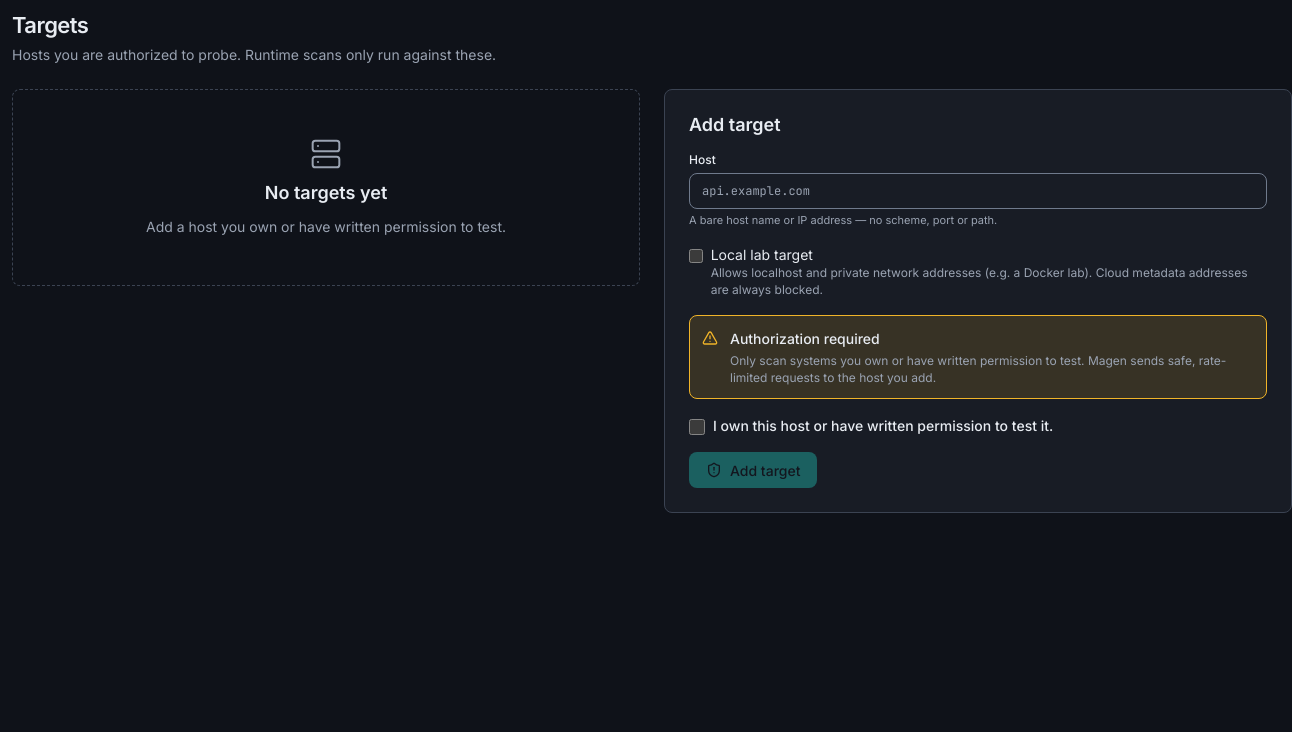
Test case: TargetsPage › shows the backend's validation message
In the field labelled "Host": (978, 191) top-left (689, 173), bottom-right (1267, 209), type "10.0.0.5"
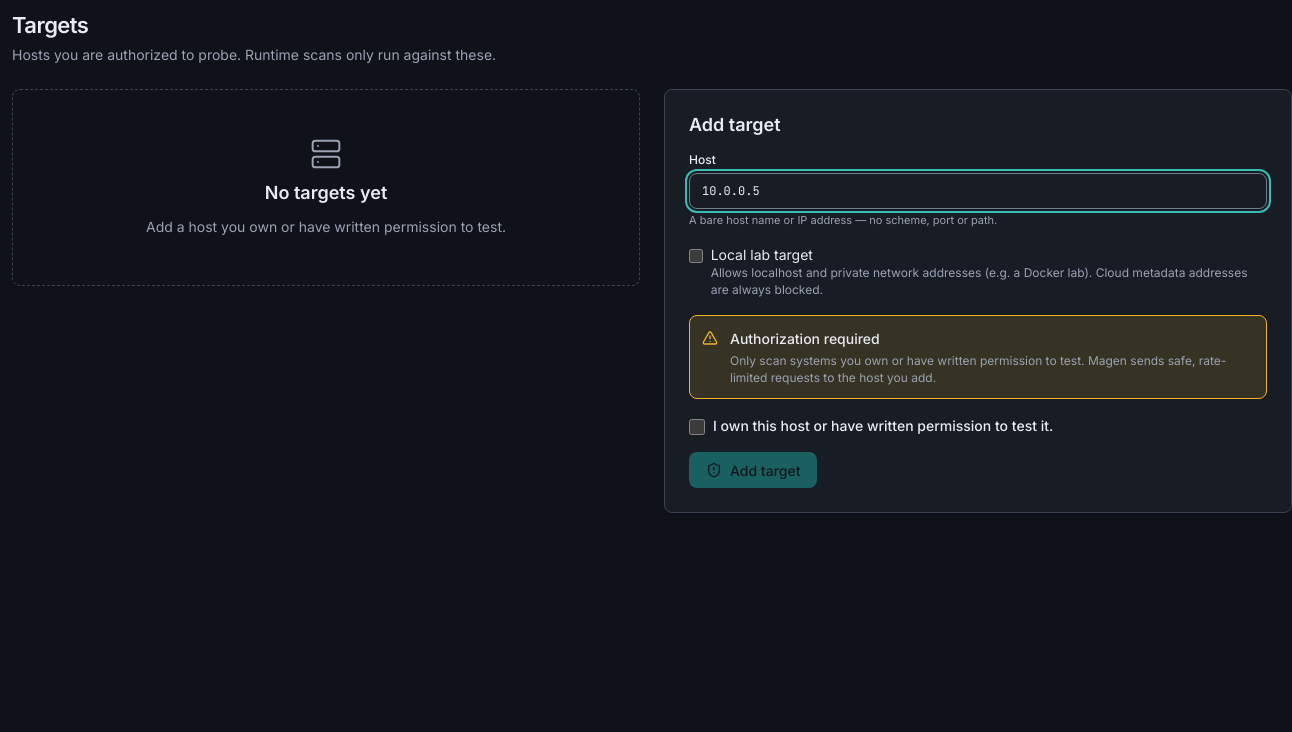
Click the checkbox labelled "I own this host or have written permission to test it.": (697, 427) top-left (689, 419), bottom-right (705, 435)
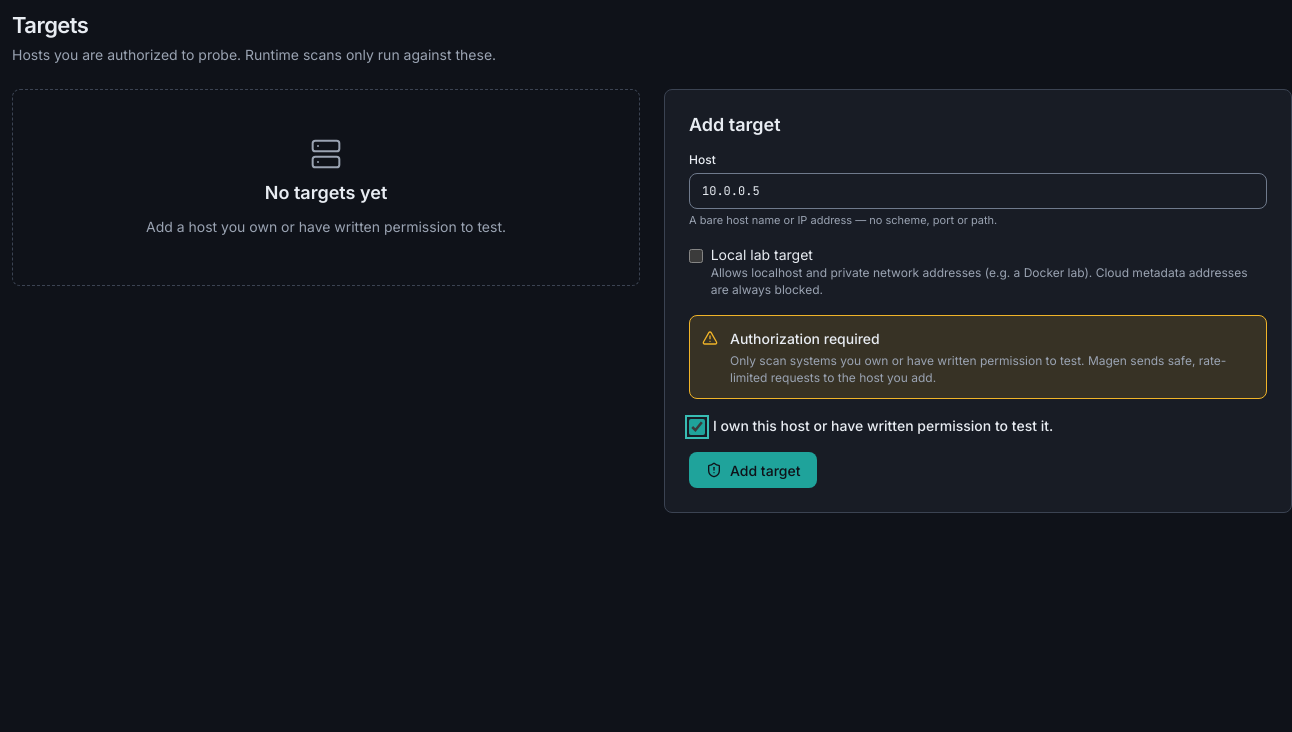
Click the button "Add target": (753, 470) top-left (689, 452), bottom-right (818, 488)
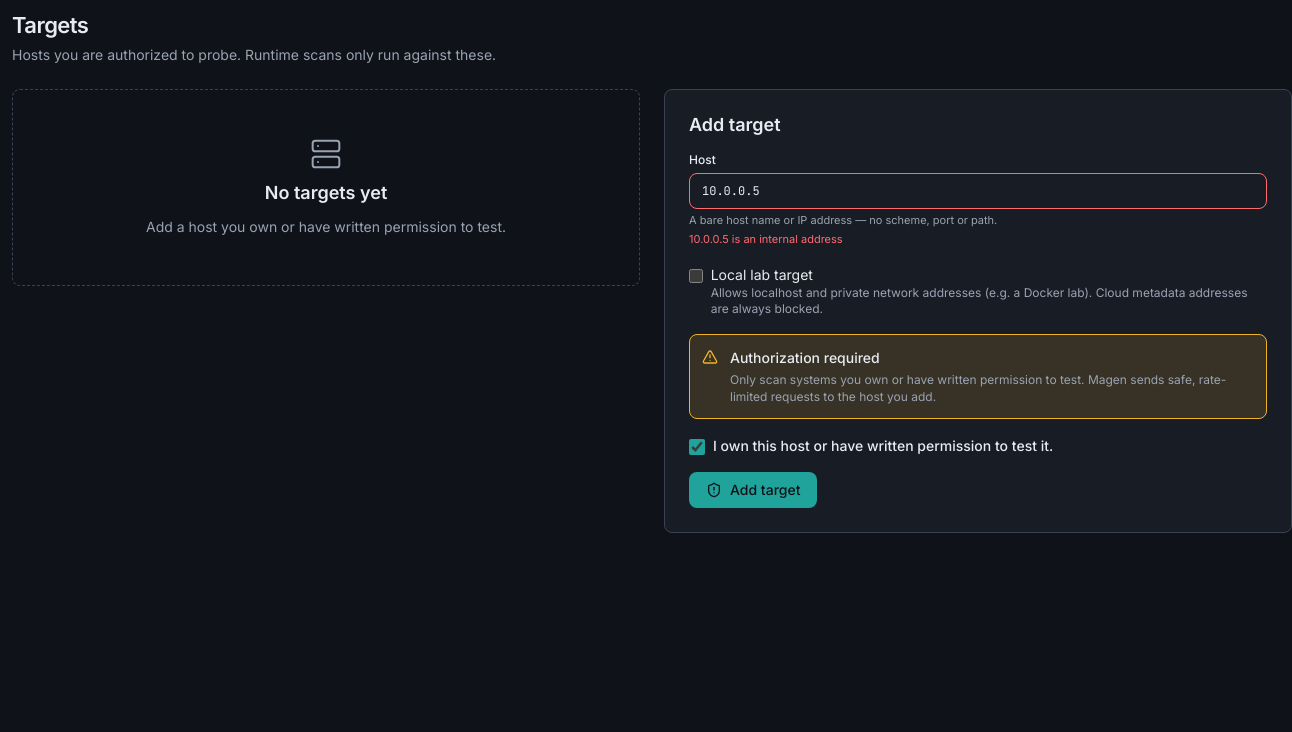
Expected: the text "10.0.0.5 is an internal address" is shown, top-left (689, 232), bottom-right (843, 246)
